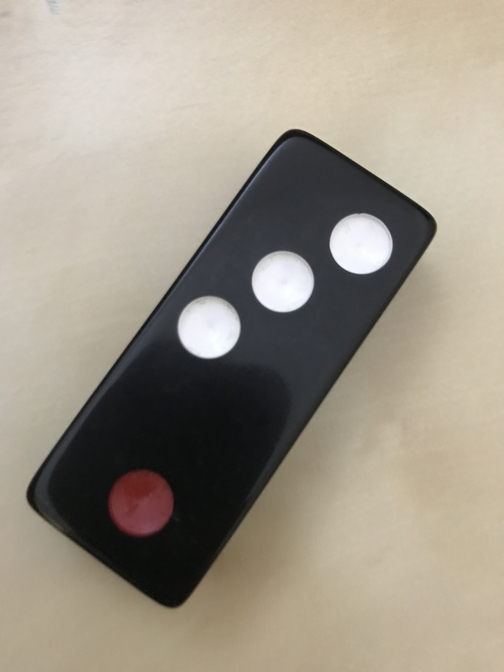goose: (28, 129, 437, 609)
